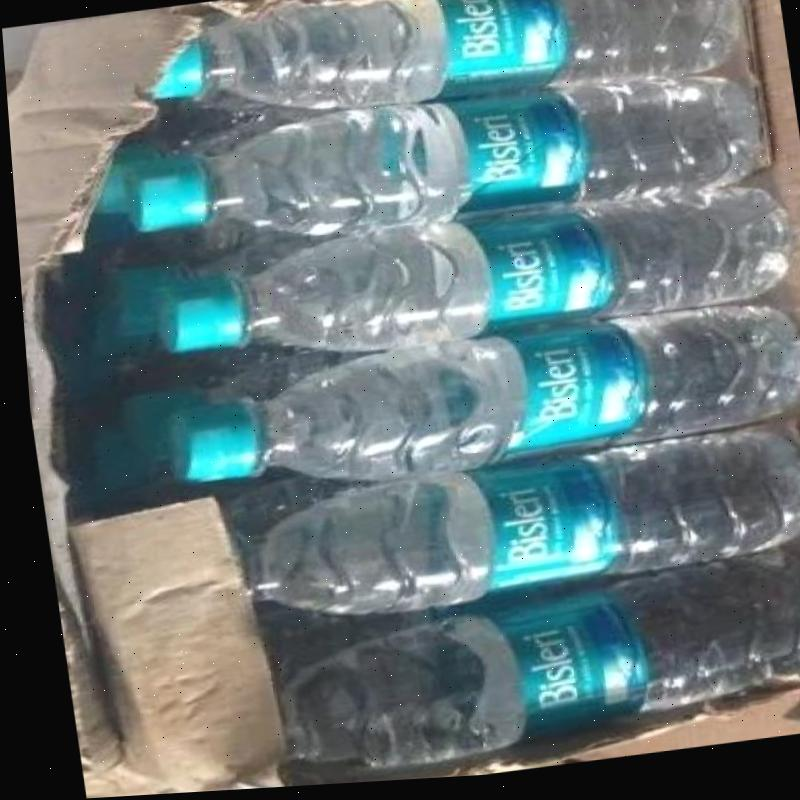botella: (230, 546, 800, 791), (146, 306, 800, 506), (137, 185, 793, 379), (220, 420, 800, 635), (121, 73, 768, 259), (118, 0, 762, 141), (101, 343, 367, 464), (89, 227, 324, 339), (70, 118, 270, 219), (74, 411, 176, 497), (72, 284, 171, 362)
